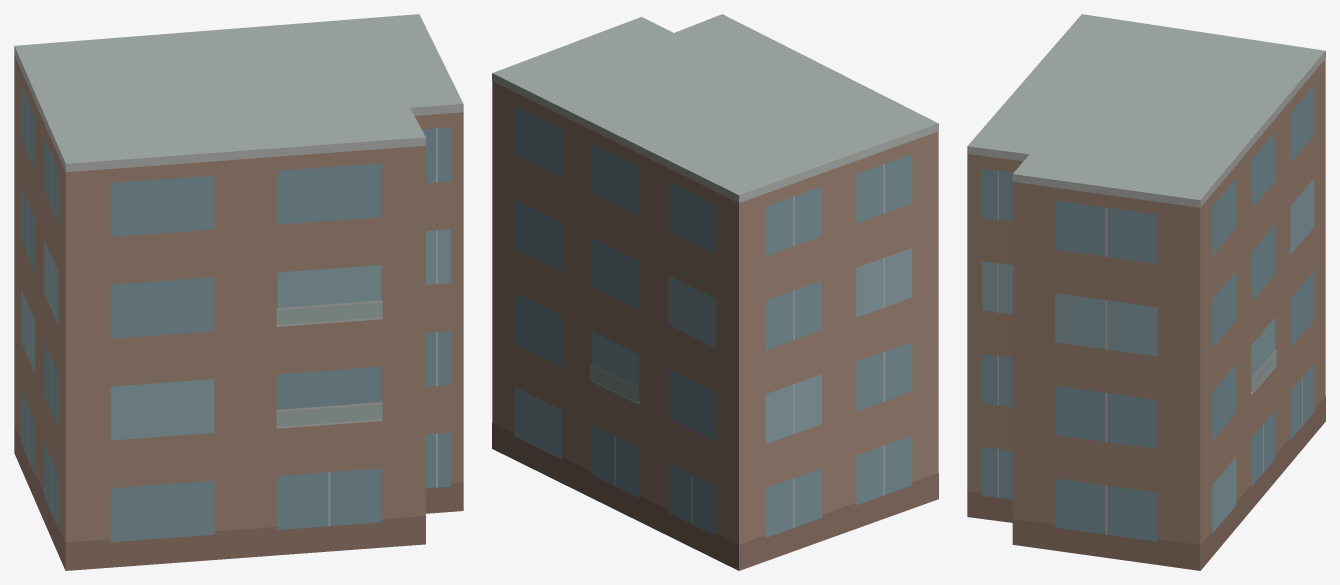
Rendered from survey-upis-32747702.glb.
3 renders of one model, left to right at view 1: azimuth 30°, elevation 25°; view 2: azimuth 150°, elevation 25°; view 3: azimuth 270°, elevation 25°, orthographic. The views are drawn at different scales.
Visible parts, largest first — view 1: survey-upis-32747702.tmp; view 2: survey-upis-32747702.tmp; view 3: survey-upis-32747702.tmp.
Boxes of the visible parts, <box> form: survey-upis-32747702.tmp: <box>14,14,463,570</box>; survey-upis-32747702.tmp: <box>492,14,938,570</box>; survey-upis-32747702.tmp: <box>967,14,1325,570</box>.
Bounding box in the file's own units: 12.72 × 11.8 × 10.35.
